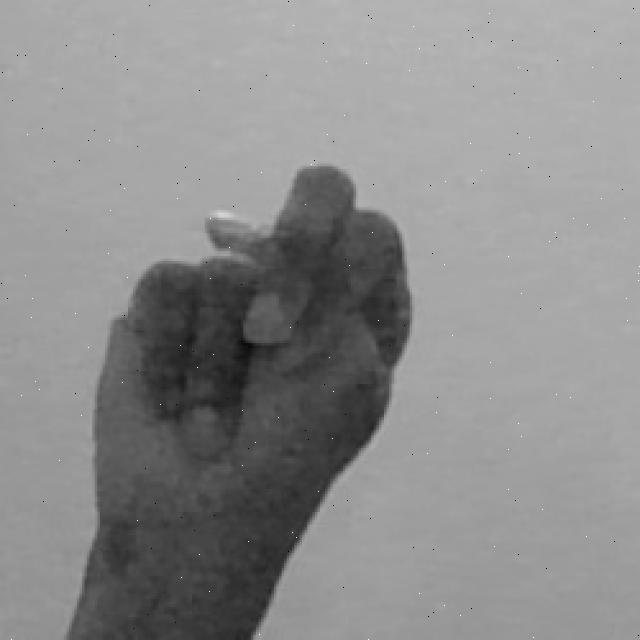N: (69, 153, 420, 640)
